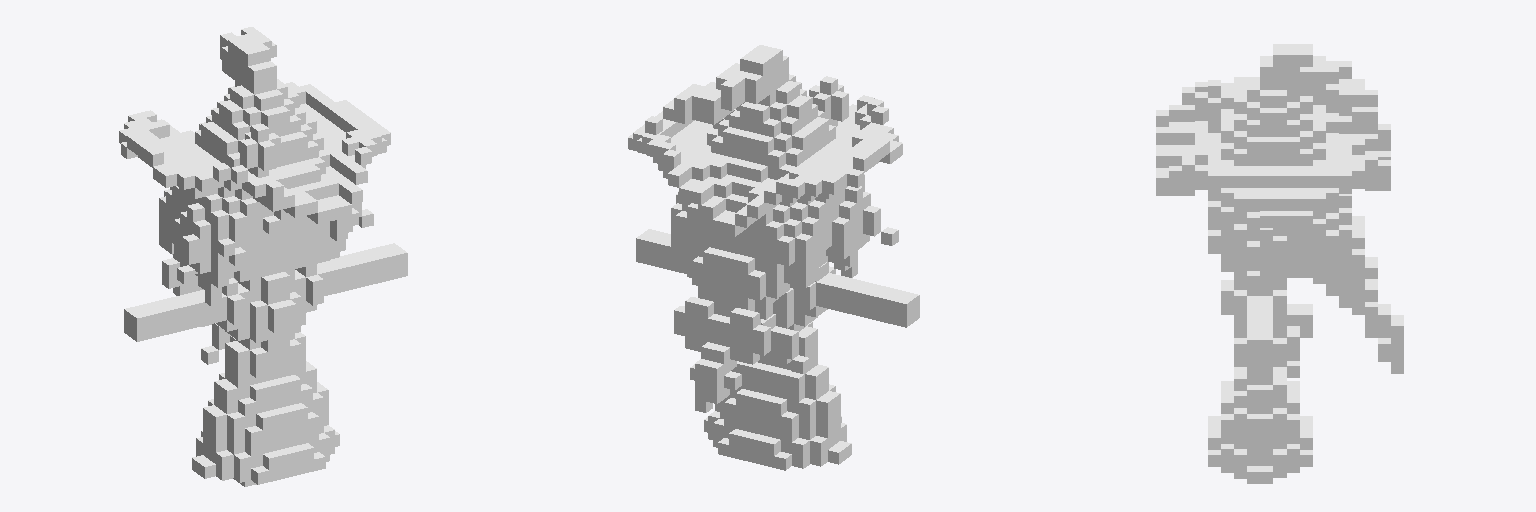
File: Full.obj
The picture shows the model from 3 angles: view 1: azimuth 30°, elevation 25°; view 2: azimuth 150°, elevation 25°; view 3: azimuth 270°, elevation 25°; orthographic projection.
Visible parts, largest first — view 1: Full; view 2: Full; view 3: Full.
Boxes of the visible parts, <box> form: Full: <box>119,27,407,486</box>; Full: <box>628,45,919,470</box>; Full: <box>1156,44,1403,483</box>.
Bounding box in the file's own units: 24 × 35 × 19.